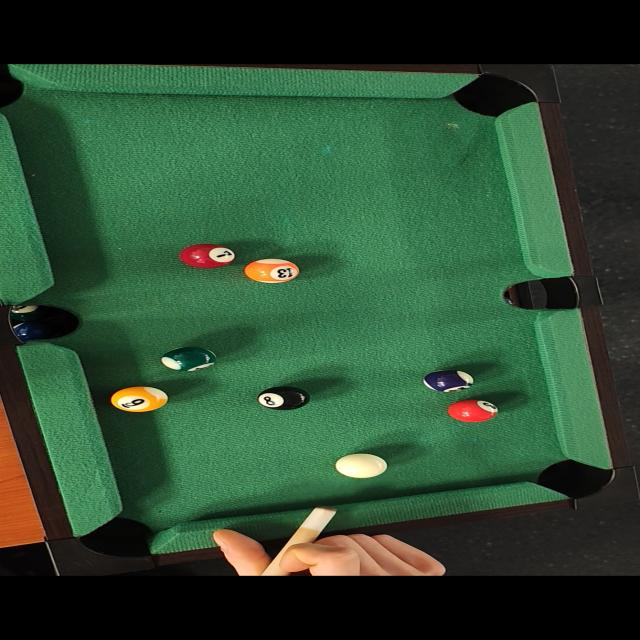cue ball: (331, 450, 392, 480)
other: (96, 385, 180, 413), (152, 344, 224, 374), (173, 242, 238, 272), (240, 258, 308, 286), (250, 386, 313, 414), (441, 397, 504, 425), (414, 368, 482, 393)
